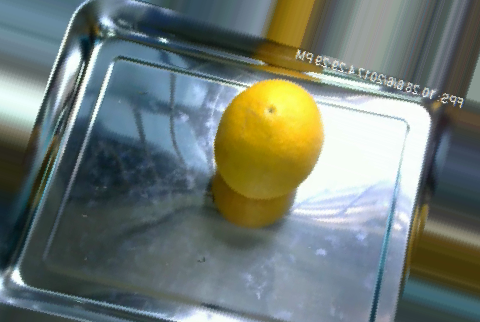Orange: (213, 79, 324, 201)
